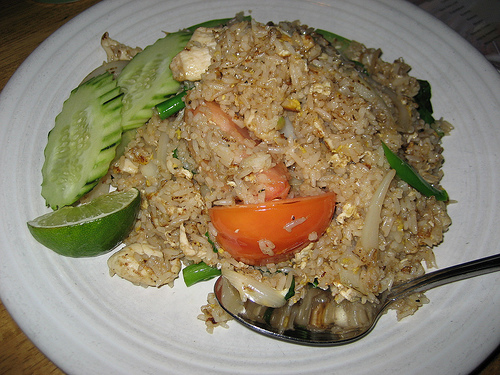cucumber: (40, 69, 123, 212), (117, 27, 191, 133)
